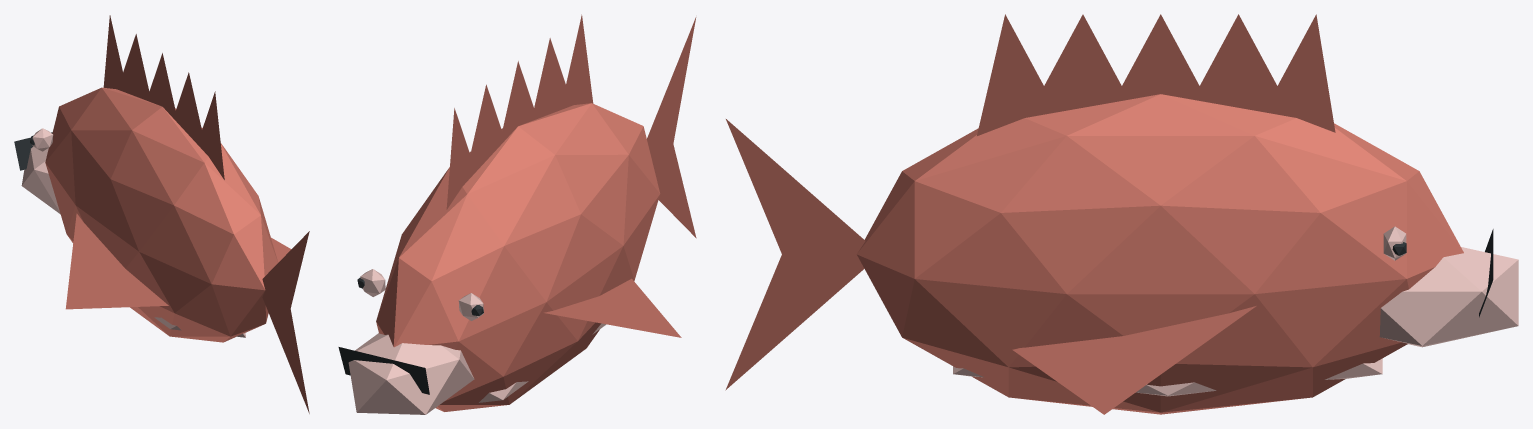
Rendered from RedSnapper.fbx.
3 renders of one model, left to right at view 1: azimuth 30°, elevation 25°; view 2: azimuth 150°, elevation 25°; view 3: azimuth 270°, elevation 25°, orthographic. The views are drawn at different scales.
Visible parts, largest first — view 1: Body, SpinedDorsal, Pectoral1, TailFin, Jaw, MouthOpening, Eye1; view 2: Body, SpinedDorsal, Jaw, TailFin, Pectoral1, MouthOpening, Eye-1, Eye1, Belly; view 3: Body, SpinedDorsal, TailFin, Jaw, Pectoral-1, Belly.
Boxes of the visible parts, <box> form: Body: <box>45,87,278,342</box>; SpinedDorsal: <box>103,15,224,179</box>; Pectoral1: <box>65,213,168,309</box>; TailFin: <box>262,231,309,413</box>; Jaw: <box>21,146,60,214</box>; MouthOpening: <box>14,132,52,170</box>; Eye1: <box>32,128,53,151</box>; Body: <box>376,103,660,411</box>; SpinedDorsal: <box>446,14,593,209</box>; Jaw: <box>348,333,474,414</box>; TailFin: <box>647,17,696,238</box>; Pectoral1: <box>544,278,681,337</box>; MouthOpening: <box>338,347,429,394</box>; Eye-1: <box>360,269,385,296</box>; Eye1: <box>458,293,483,320</box>; Belly: <box>436,323,606,407</box>; Body: <box>856,94,1463,414</box>; SpinedDorsal: <box>977,14,1335,135</box>; TailFin: <box>725,119,865,390</box>; Jaw: <box>1379,247,1518,347</box>; Pectoral-1: <box>1012,306,1256,414</box>; Belly: <box>953,358,1382,396</box>.
Size of the model in its own units: 0.56 by 0.625 by 1.12.
